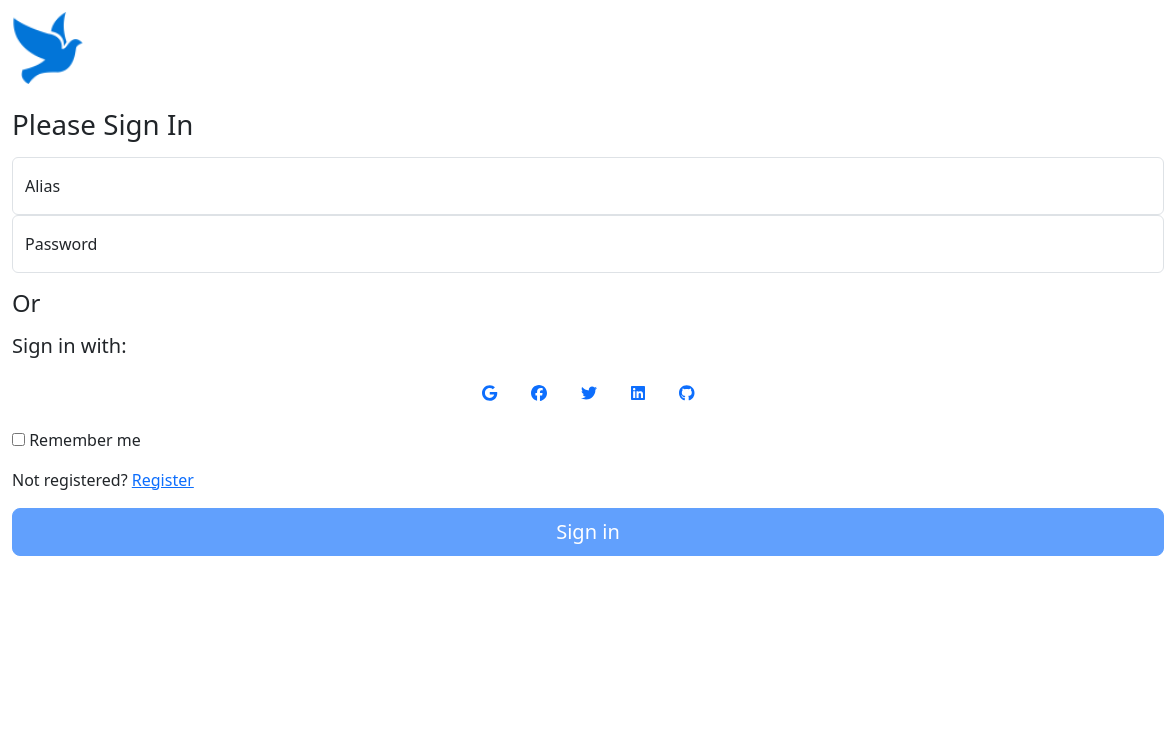
Login component tests › enables sign in button when both fields have text
Type "a" into the field labelled "Alias".
click(588, 186); type("a")  # box [12,157,1164,215]
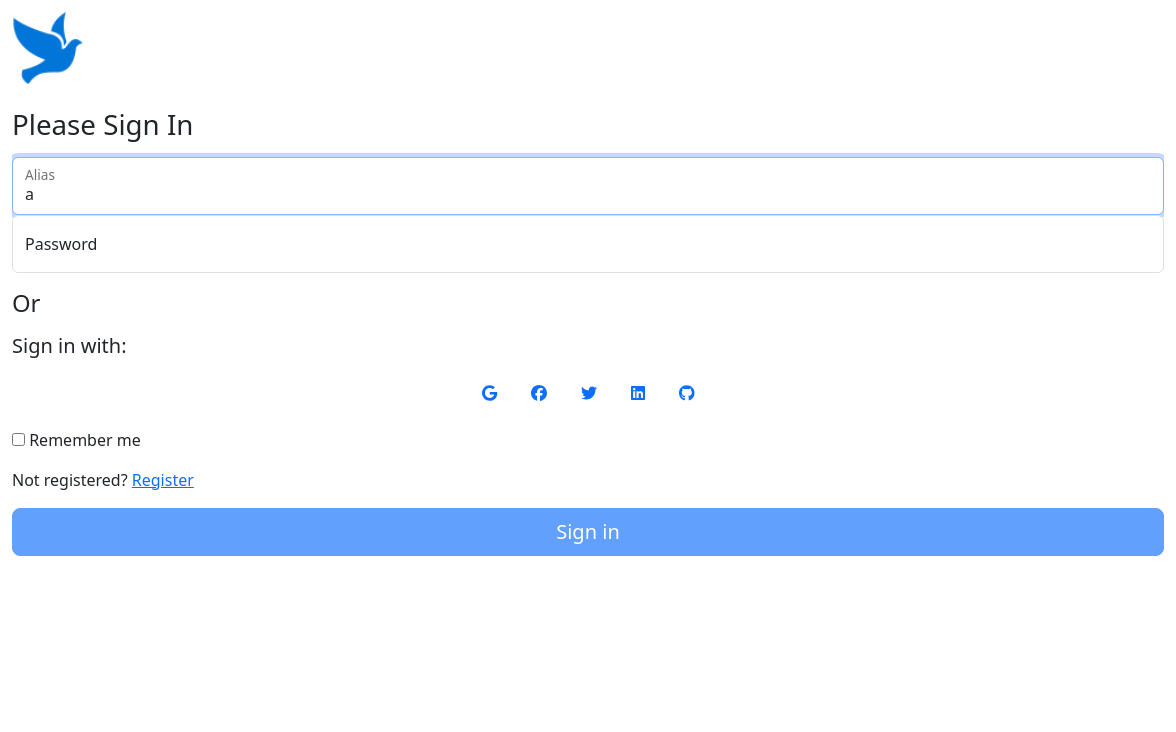
Type "p" into the password field labelled "Password".
click(588, 244); type("p")  # box [12,215,1164,273]
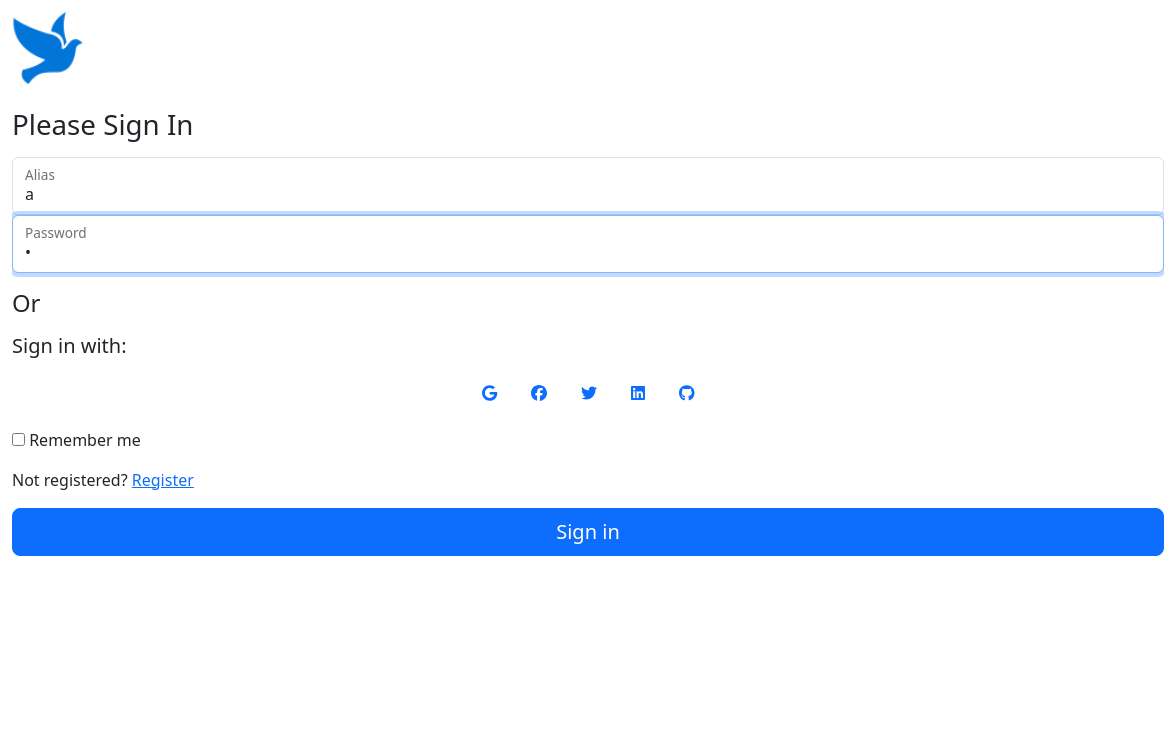
Expected: the button "Sign in" is enabled, [12,508,1164,556]
